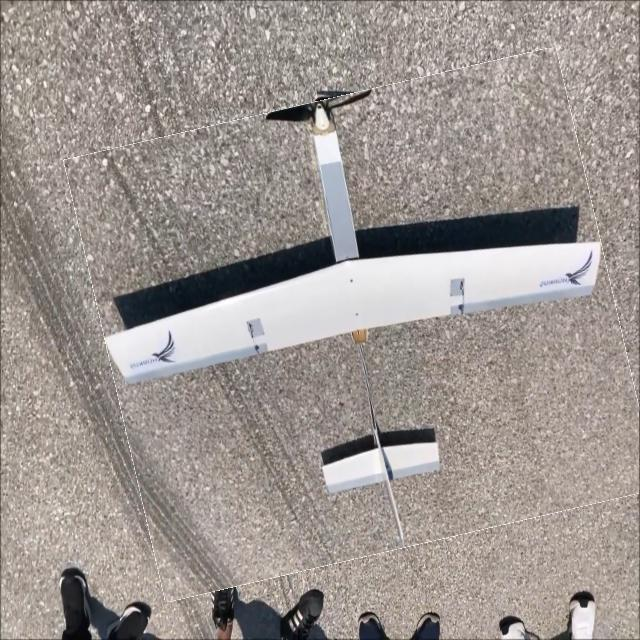UAV: (83, 61, 610, 560)
